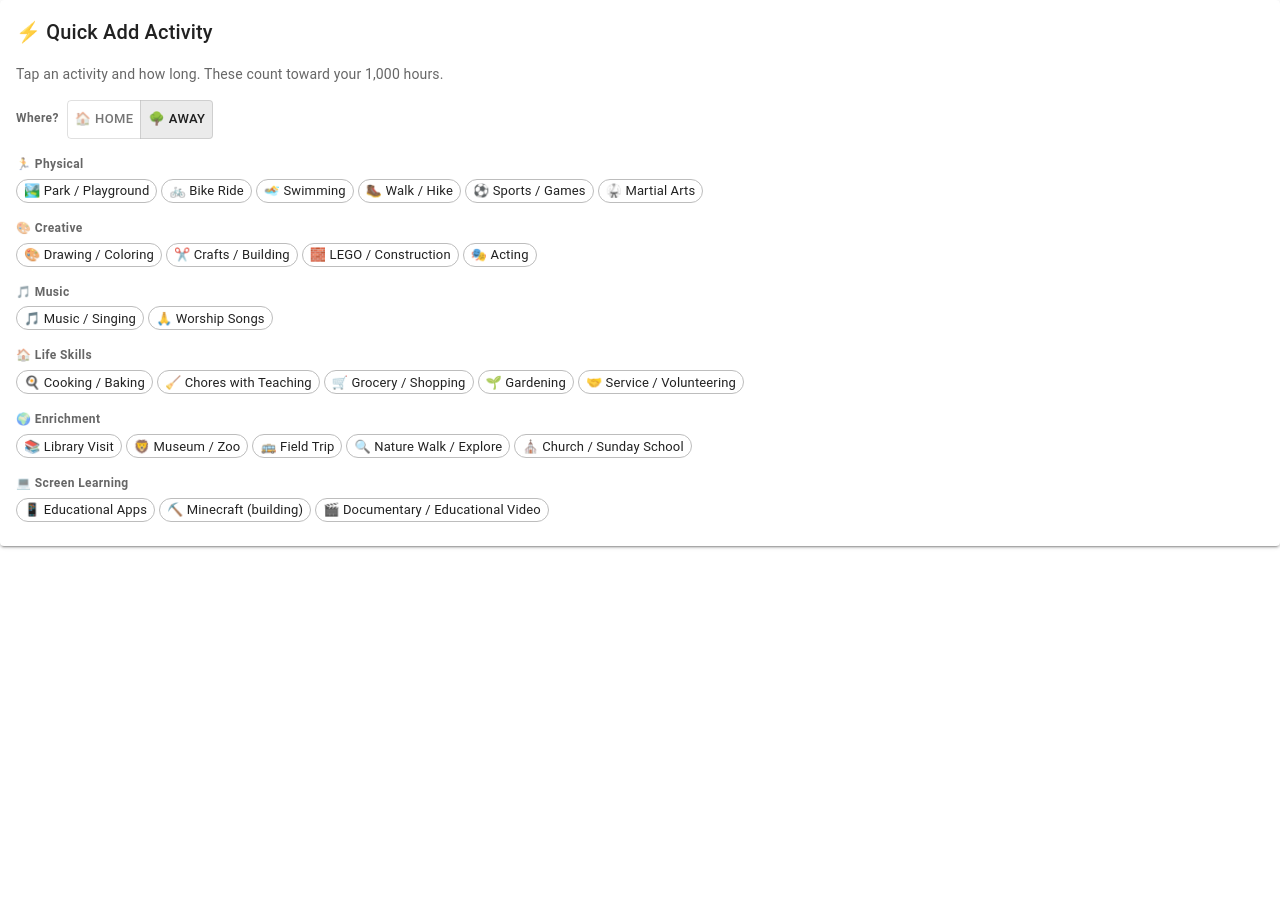
it: QuickAddHours — a child switch clears the pending entry › clears the session receipts, which belong to the child they were logged under
Click the button "🦁 Museum / Zoo".
click(187, 446)  # box [126, 434, 248, 458]
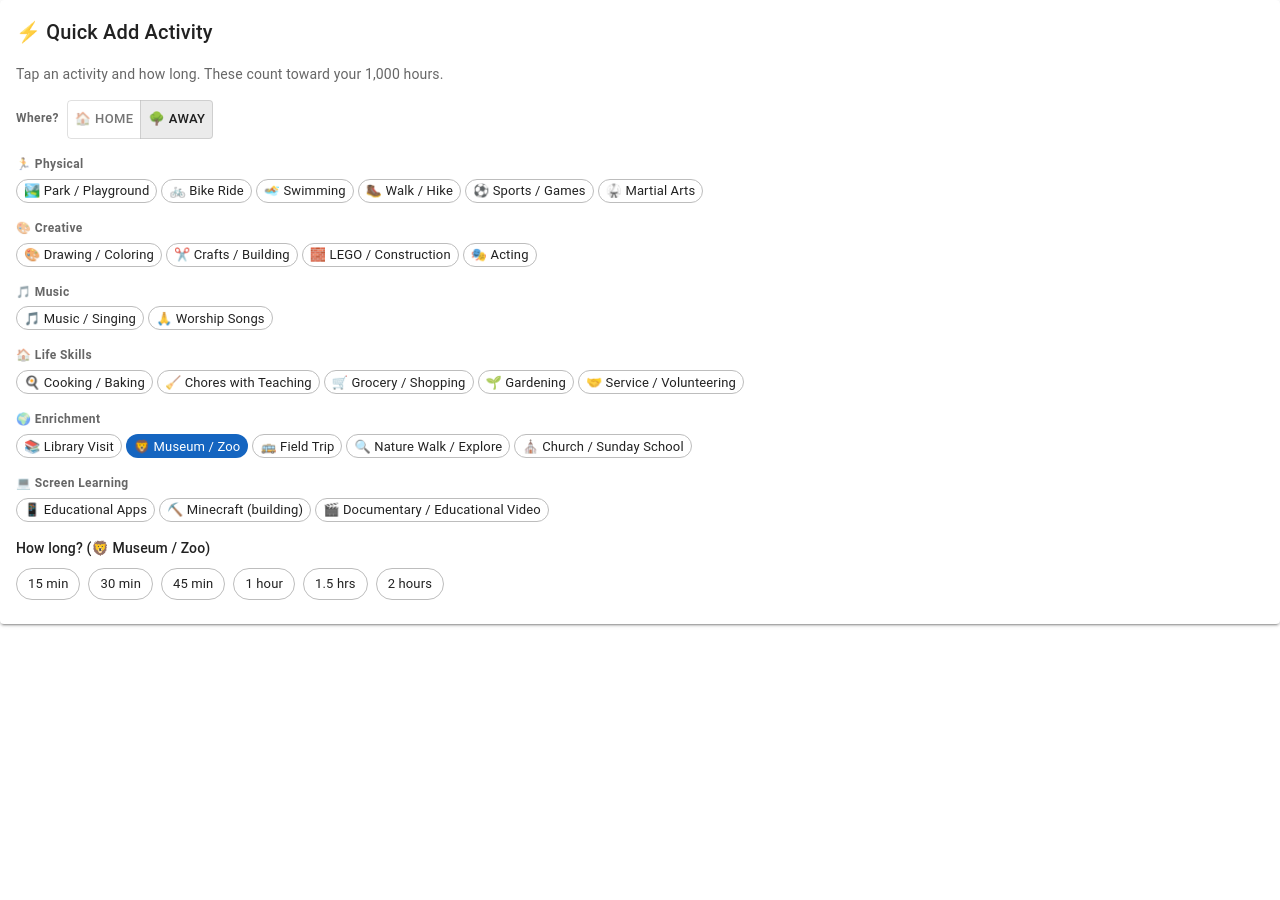
Click the button "1 hour".
click(264, 584)  # box [234, 568, 295, 600]
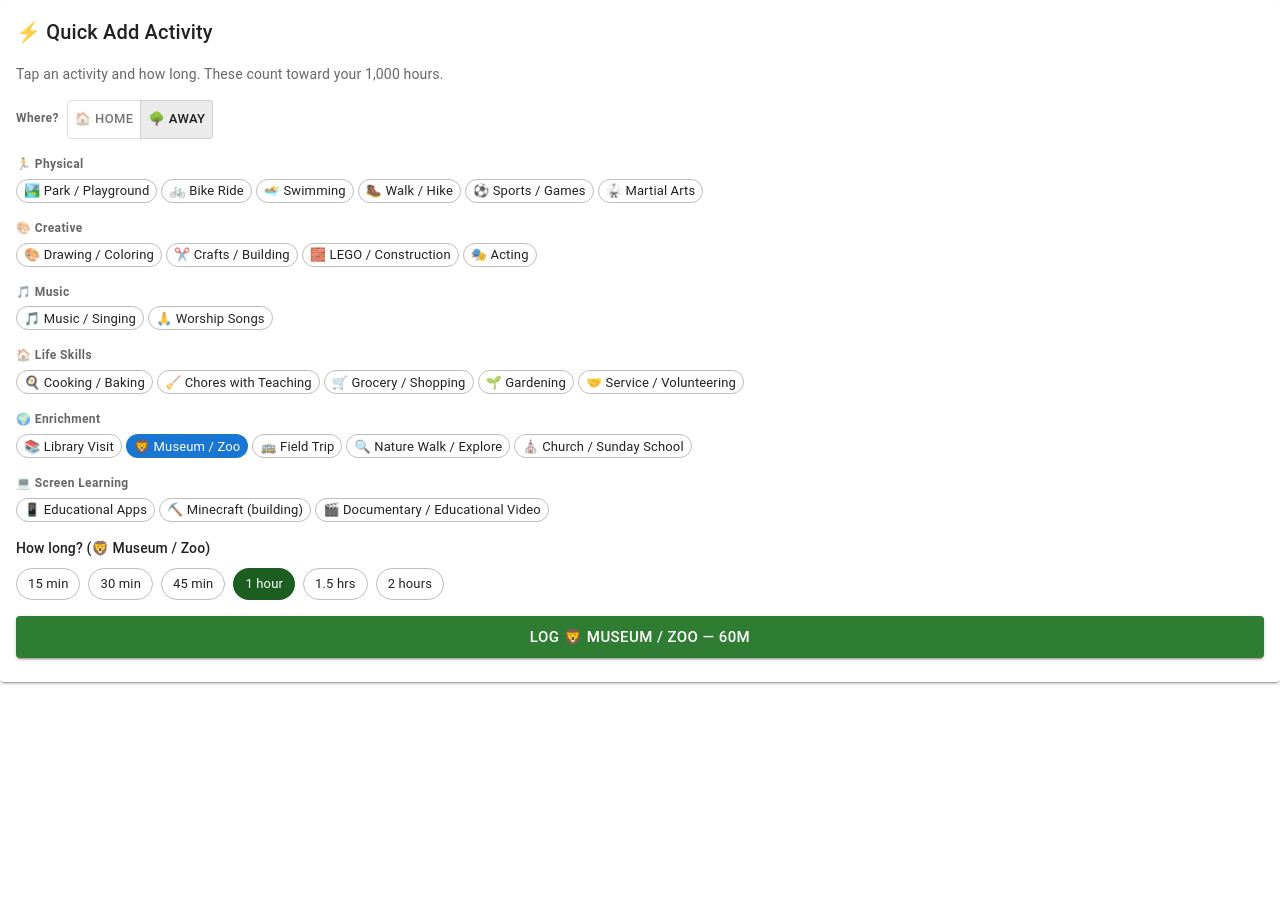
Click the button "Log 🦁 Museum / Zoo — 60m".
click(640, 637)  # box [16, 616, 1264, 658]
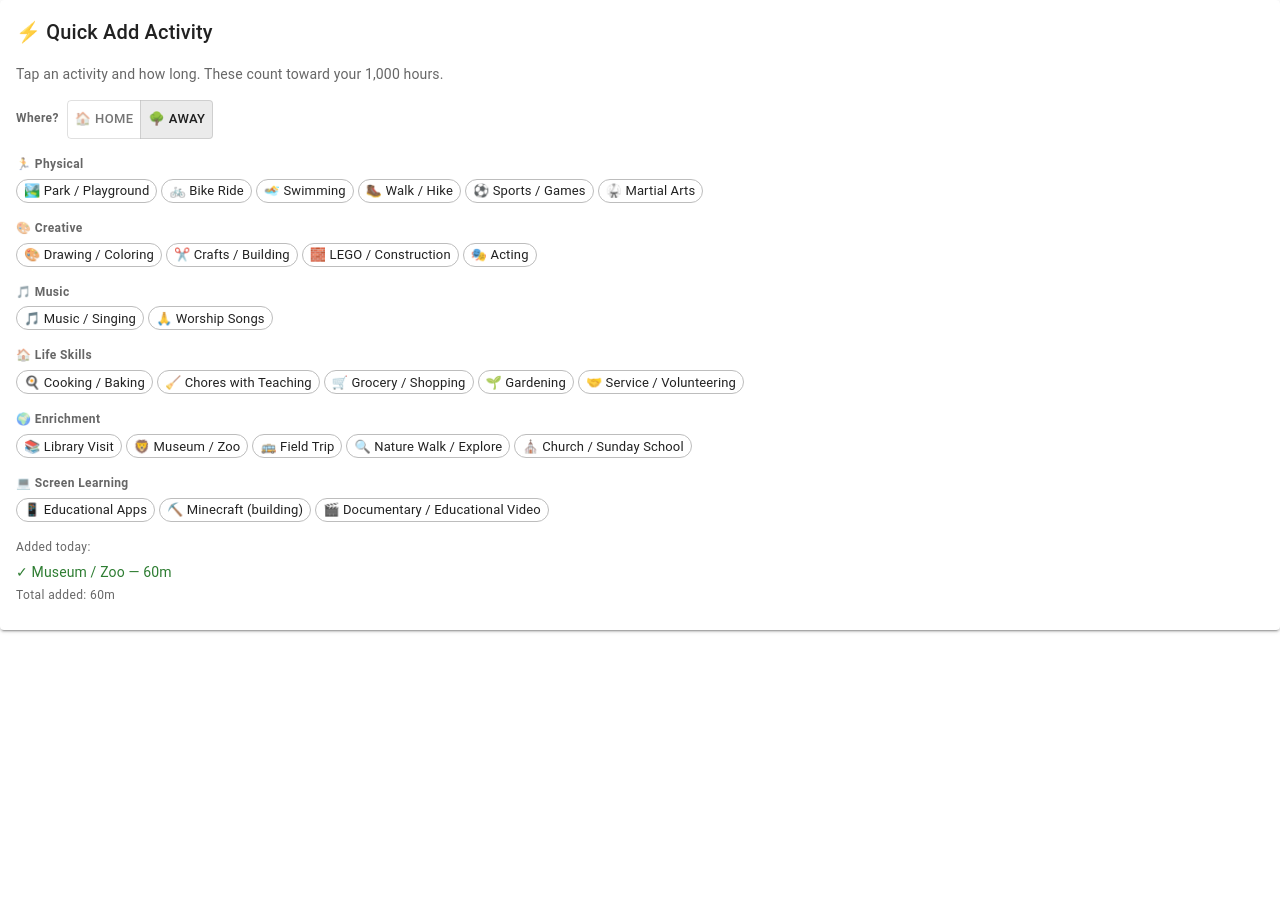
Check: the text "Added today:" is shown, box [16, 540, 91, 554]
